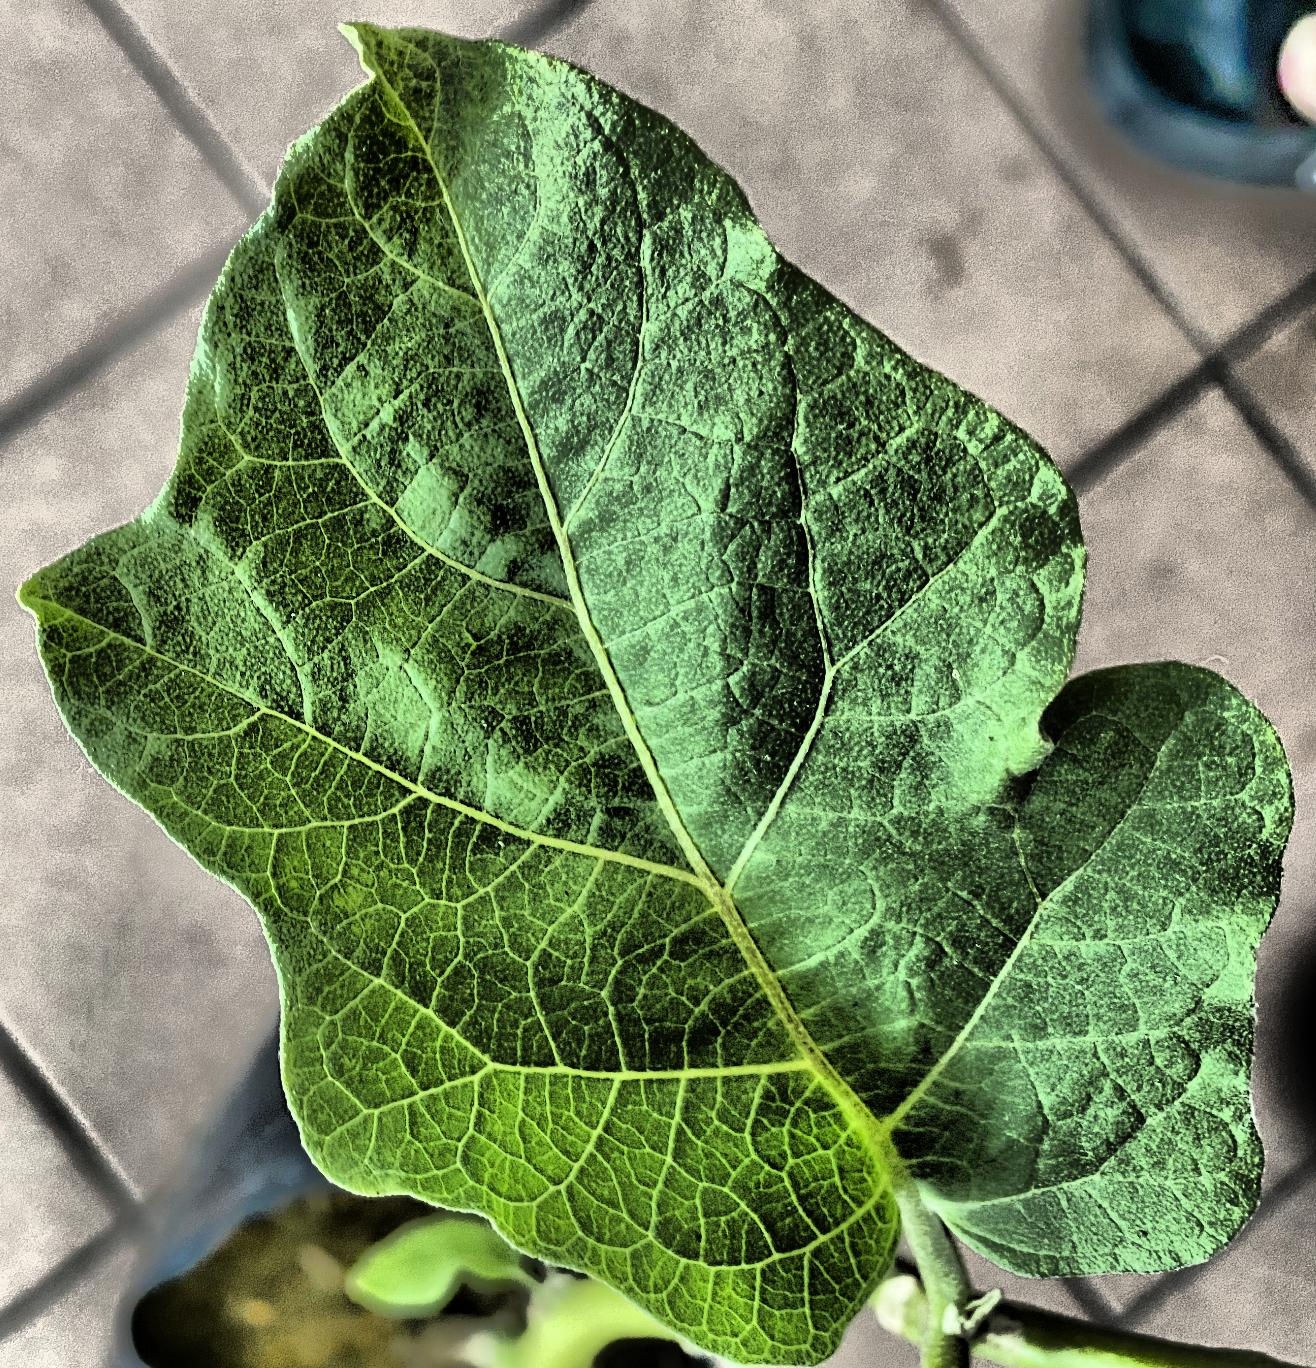HEALTHY: (1, 0, 1316, 1367)
